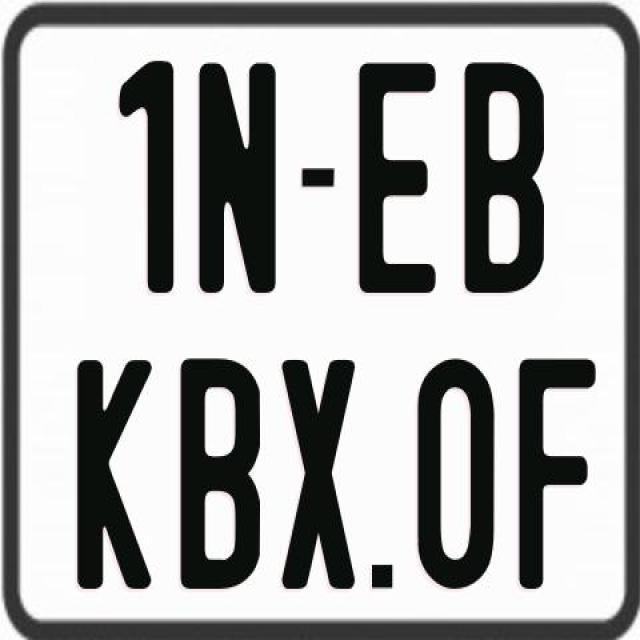0: (414, 355, 492, 592)
1: (119, 59, 174, 291)
B: (182, 354, 266, 586), (464, 61, 544, 301)
E: (358, 59, 441, 290)
F: (514, 358, 598, 596)
K: (76, 360, 152, 590)
N: (197, 63, 280, 294)
X: (281, 358, 355, 588)
